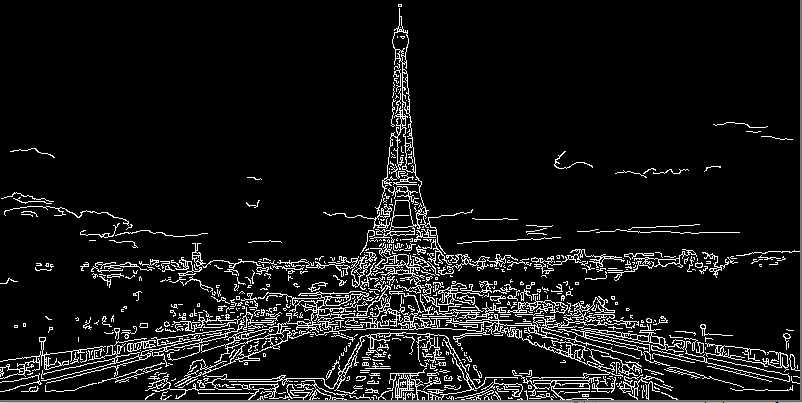eiffel tower: (333, 11, 457, 278)
